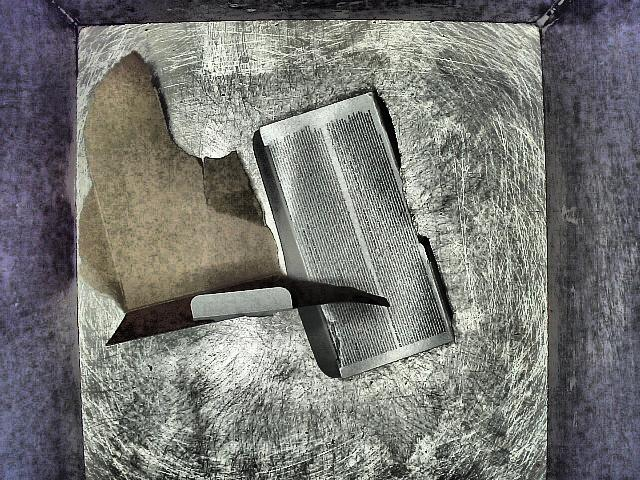Paper: (13, 44, 466, 385)
